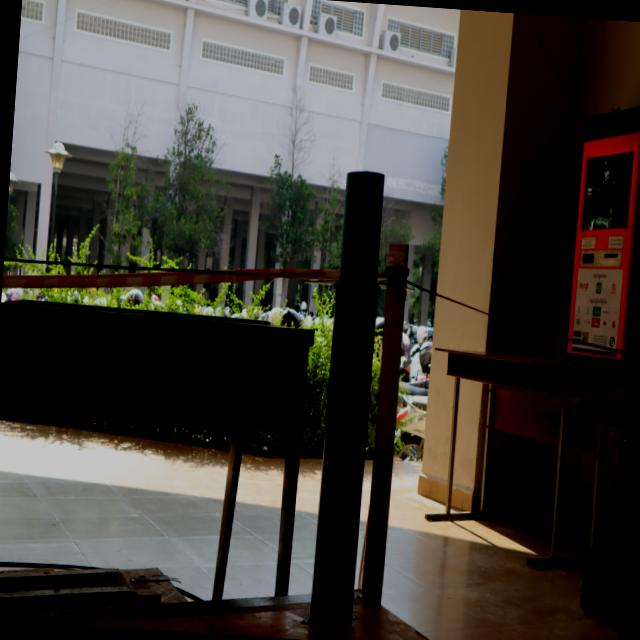pole: (312, 166, 411, 342)
